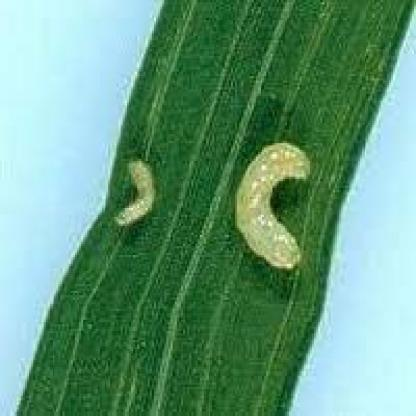whorl-maggot: (227, 135, 318, 277), (115, 146, 163, 236)
